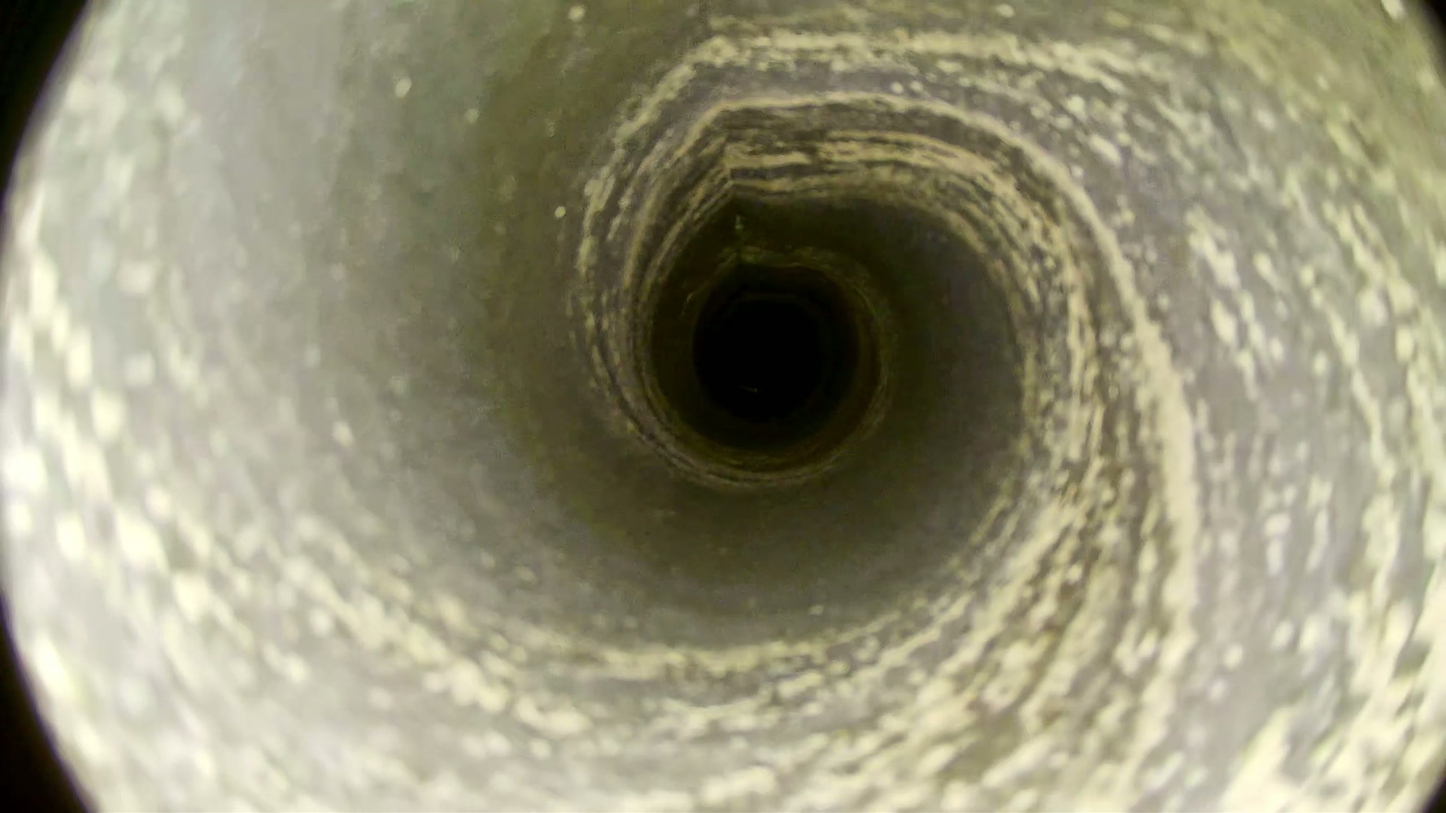hole: (705, 300, 822, 421)
